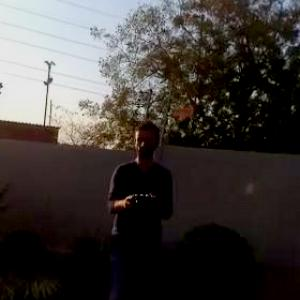follow: (99, 110, 179, 299)
